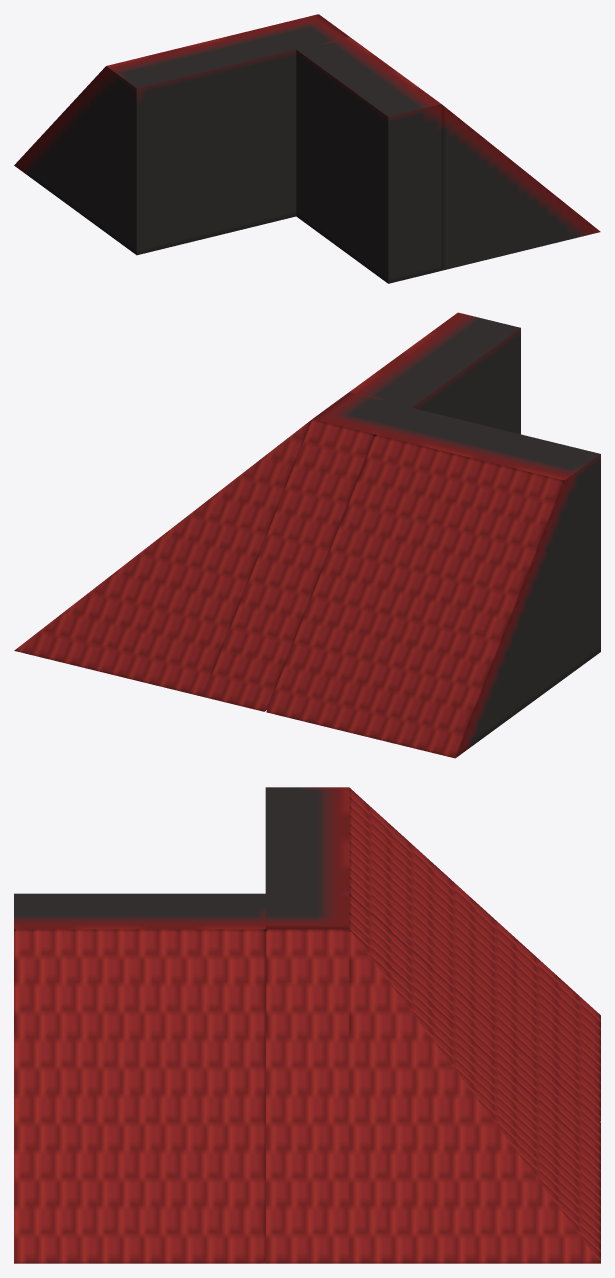
File: Roof_Corner_2.fbx
3 views of the same model, one above another, from view 1: azimuth 30°, elevation 25°; view 2: azimuth 150°, elevation 25°; view 3: azimuth 270°, elevation 25° (orthographic). The views are drawn at different scales.
Parts seen in each view (by area): view 1: Roof_Corner_2; view 2: Roof_Corner_2; view 3: Roof_Corner_2.
Boxes of the visible parts, x1,y1,x2,y2 form: Roof_Corner_2: (14, 14, 600, 283); Roof_Corner_2: (14, 312, 600, 758); Roof_Corner_2: (14, 787, 600, 1263).
Bounding box in the file's own units: 700 × 300 × 700.
1 material, 1 textured.
